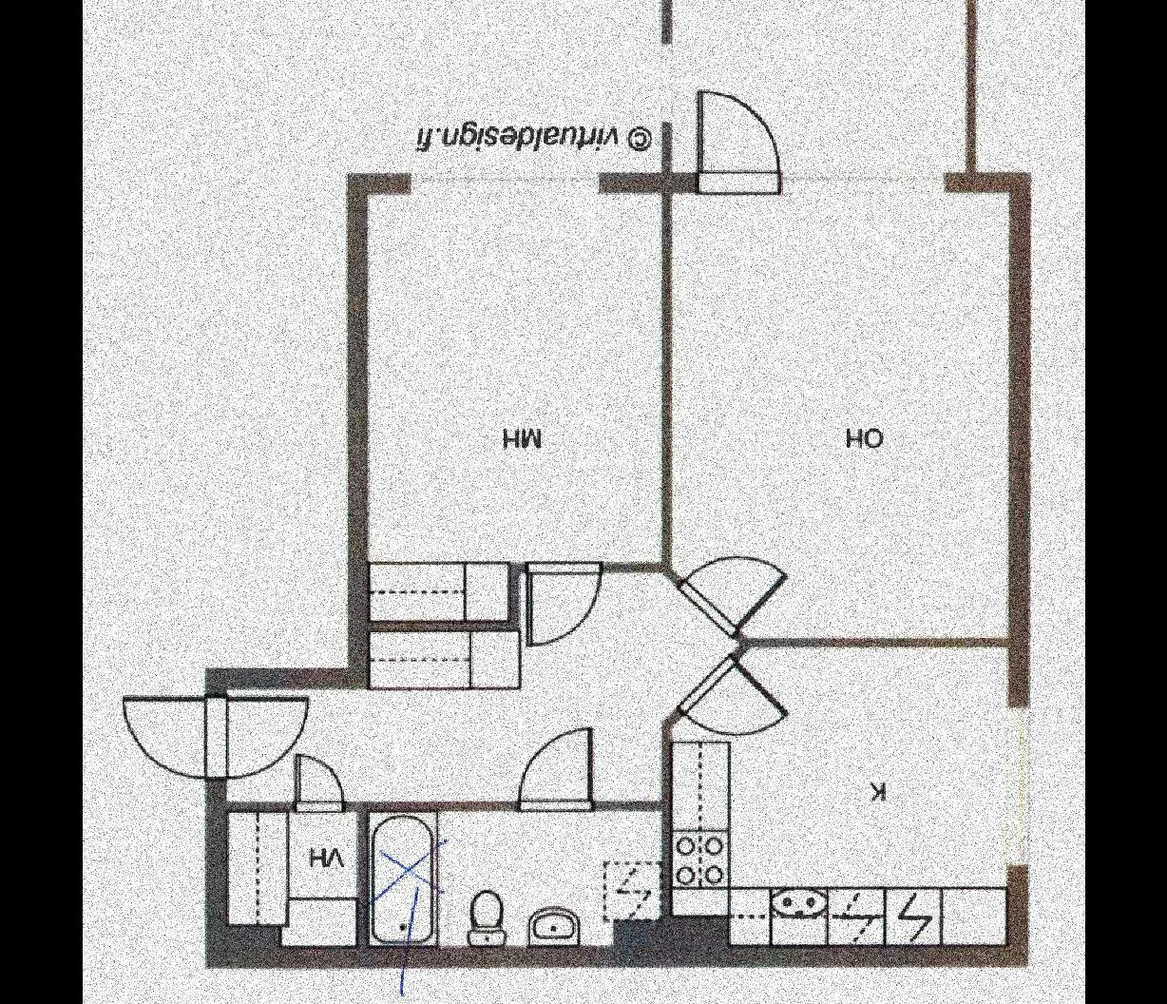door: (115, 690, 310, 773), (676, 649, 794, 756), (673, 549, 794, 648), (683, 85, 790, 194), (510, 723, 600, 816), (521, 558, 600, 659), (280, 742, 367, 828)
window: (777, 171, 946, 199), (406, 173, 603, 196), (1006, 705, 1030, 865)
zone: (674, 191, 1007, 644), (357, 191, 658, 618), (229, 569, 741, 811), (667, 645, 1011, 943), (672, 0, 968, 173), (368, 816, 664, 948), (220, 807, 361, 956)
